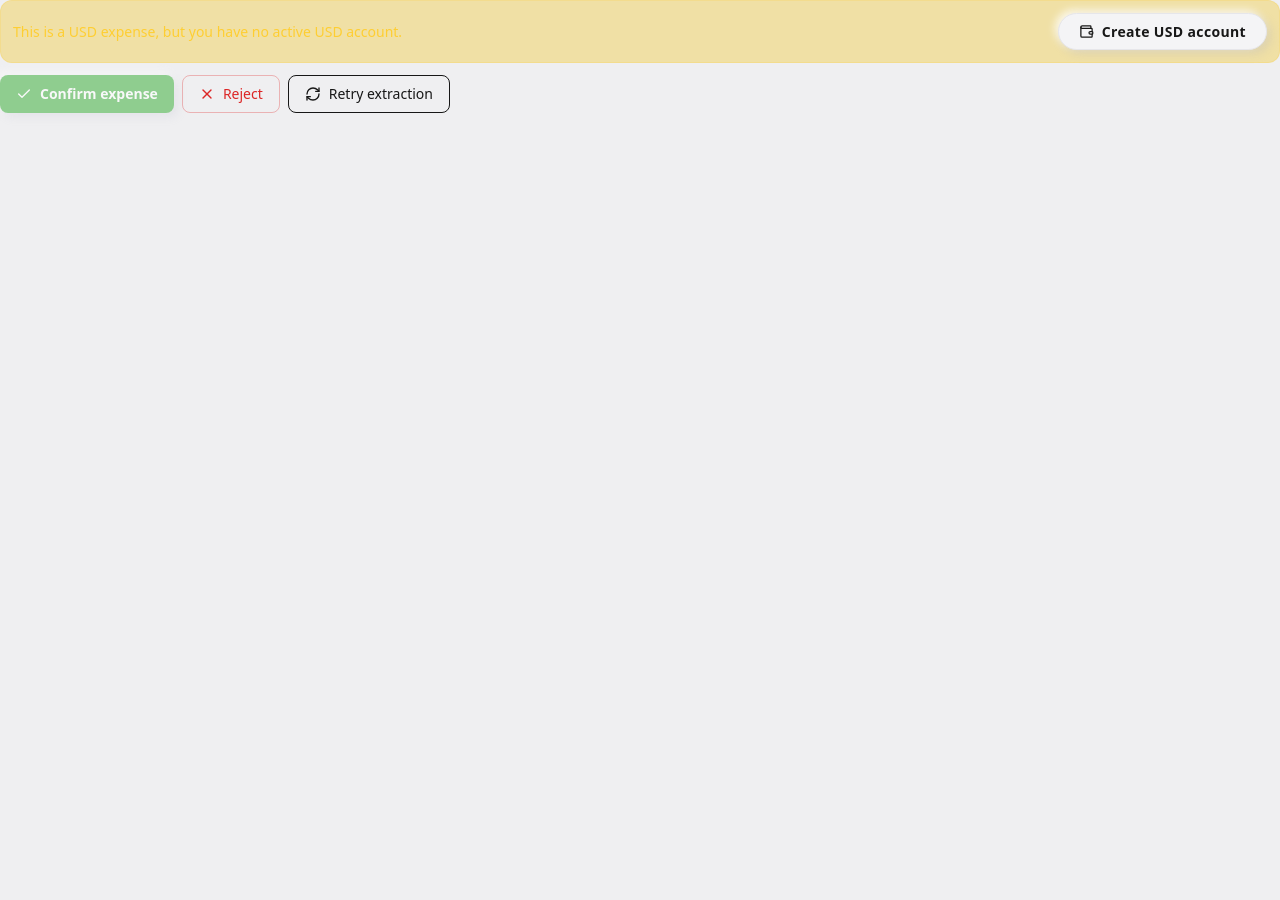
ExtractionReviewActions inline account creation › keeps the dialog open and displays a recoverable action error
Click the button "Create USD account": (1162,32) [1058,13,1267,50]
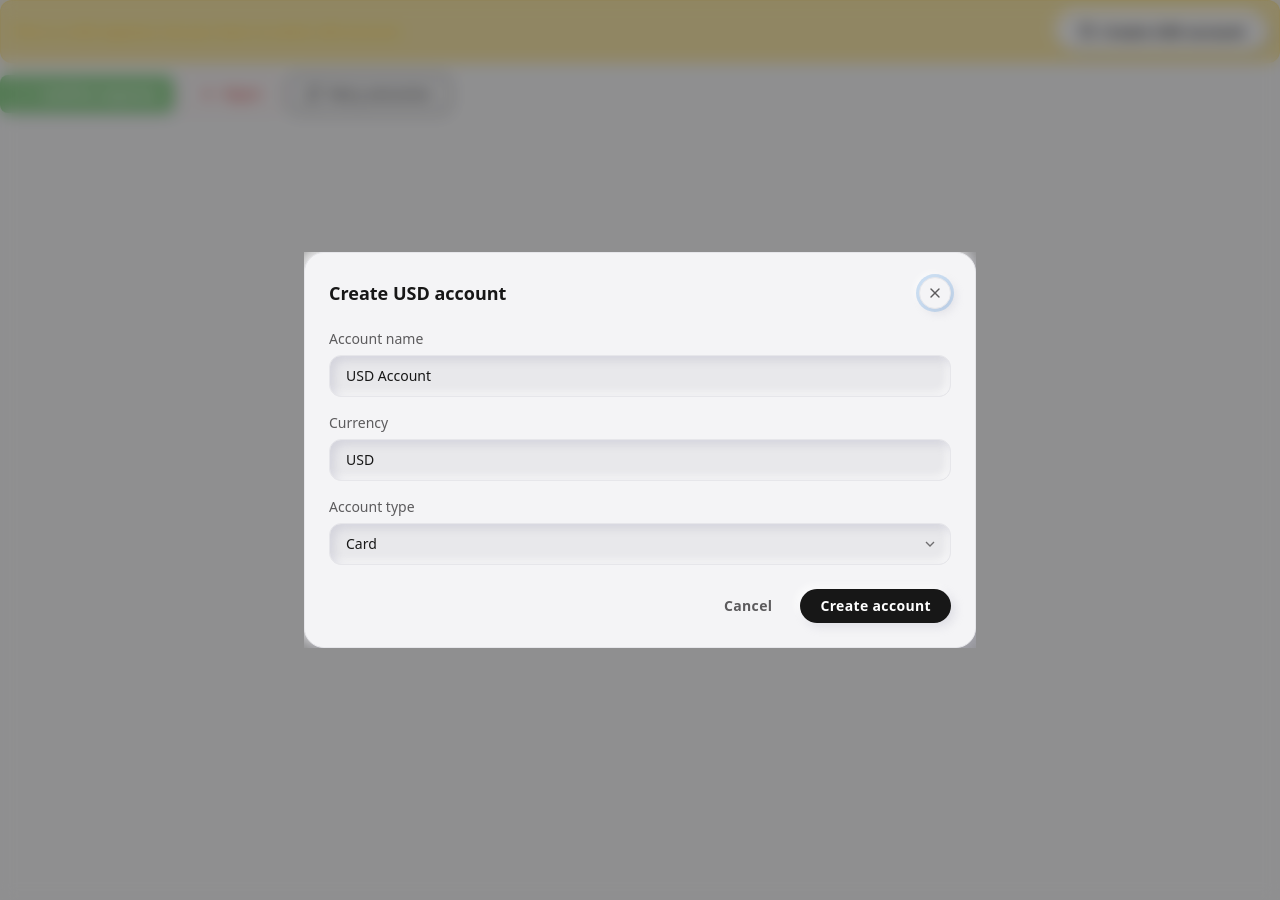
Click the button "Create account": (876,606) [800,589,951,623]
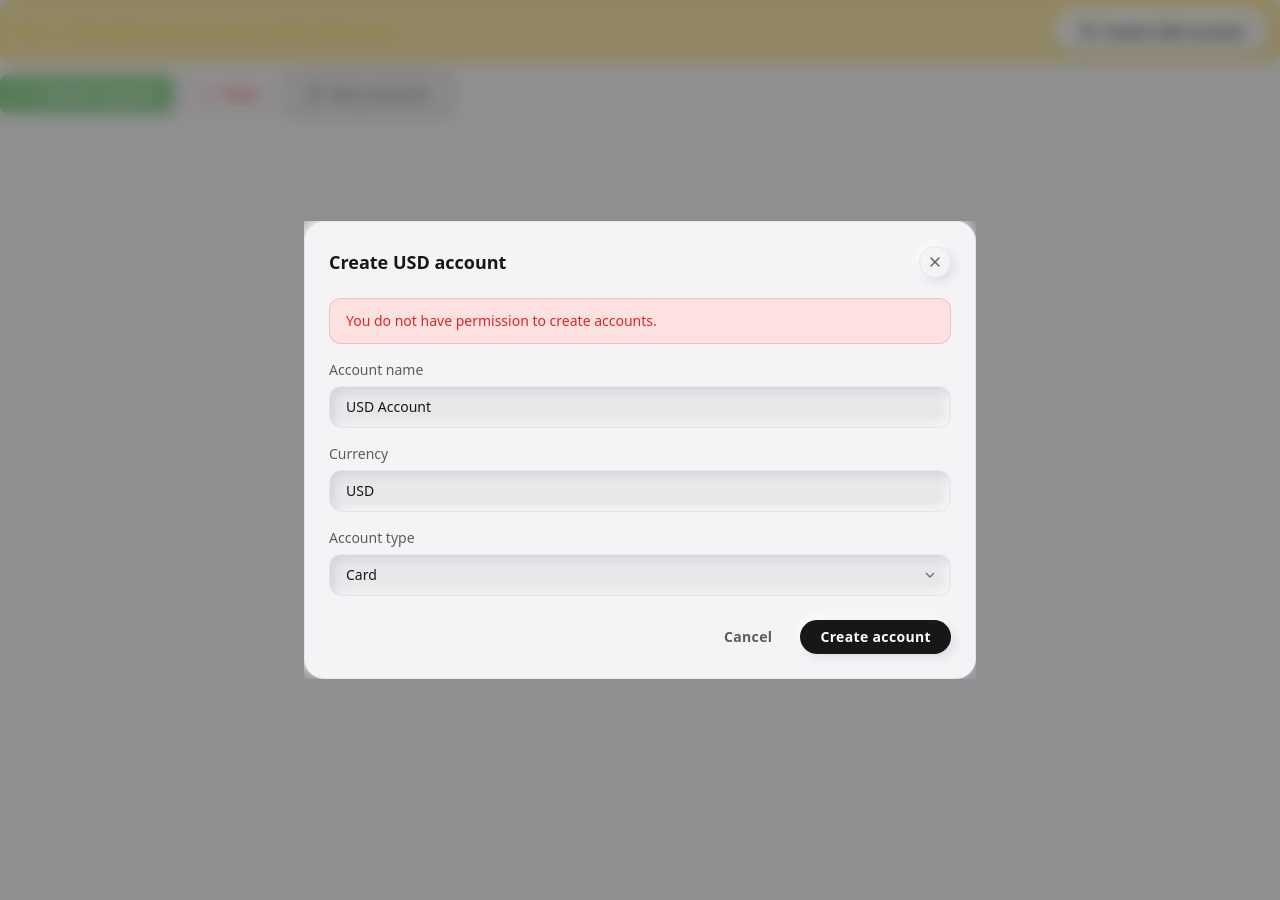
Result: the message reads "You do not have permission to create accounts." at [346,311,657,330]
